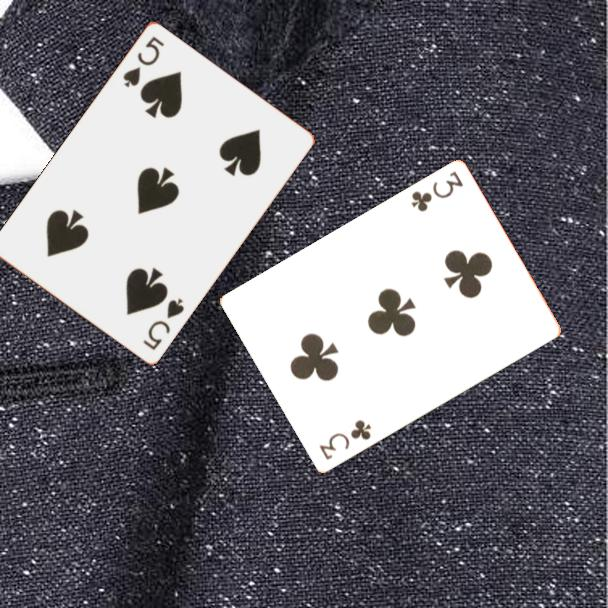c03: (407, 168, 466, 215), (315, 417, 374, 463)
s05: (119, 33, 167, 91), (140, 295, 187, 354)
